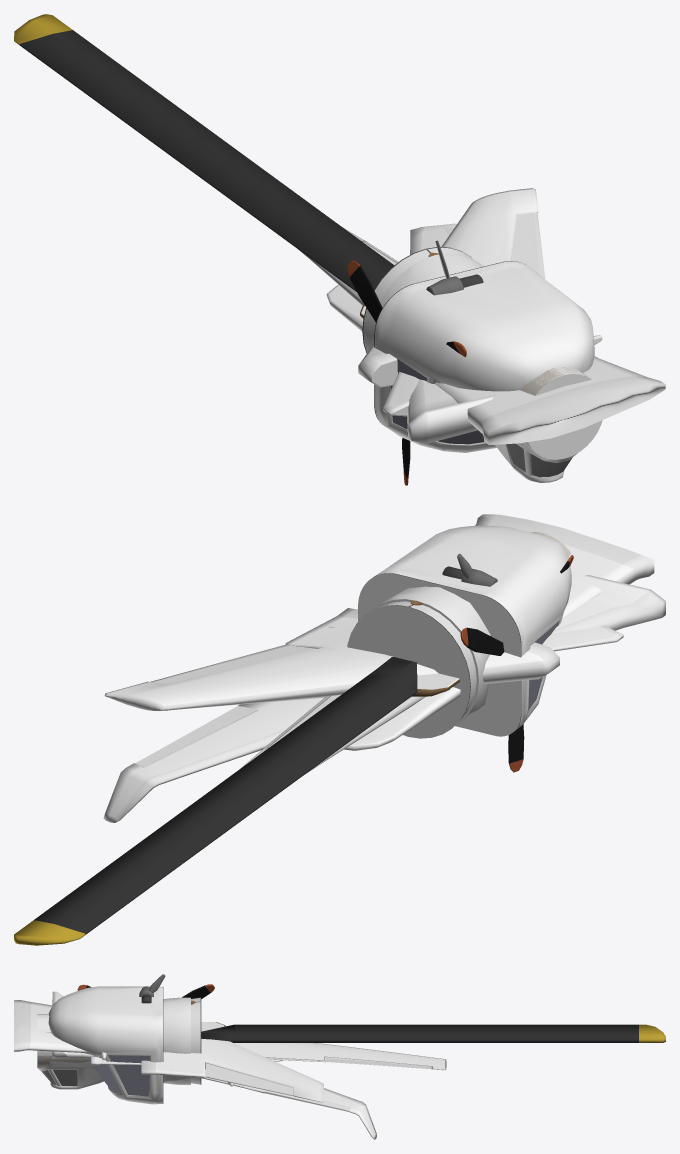
File: Parts_Mirrored_1.glb
The picture shows the model from 3 angles, top to bottom: view 1: azimuth 30°, elevation 25°; view 2: azimuth 150°, elevation 25°; view 3: azimuth 270°, elevation 25°; orthographic projection. The views are drawn at different scales.
Parts seen in each view (by area): view 1: HelicopterCockpit__1_M, HelicopterEngine__0_M, ElectronWing__0_M, DeltaWing02__1_M, ElectronWing__1_M, Cockpit__0_M, BigWing__0_M, BigCockpit__1_M, DeltaWing02__0_M, DeltaWing02__2_M, BigWing__1_M, Connector__0_M (+3 smaller); view 2: HelicopterEngine__0_M, HelicopterCockpit__1_M, DeltaWing02__1_M, Connector__0_M, BigWing__0_M, BigWing__1_M, DeltaWing02__0_M, ElectronWing__1_M, ElectronWing__0_M, BigCockpit__1_M, DeltaWing02__2_M, BigWing__2_M (+4 smaller); view 3: HelicopterEngine__0_M, HelicopterCockpit__1_M, DeltaWing02__1_M, GliderWing__1_M, BigCockpit__1_M, HelicopterCockpit__0_M, Cockpit__0_M, DeltaWing02__2_M, ElectronWing__0_M, BigWing__0_M, ElectronWing__1_M, Connector__0_M (+9 smaller).
Part boxes in pixels (left/top/right/bottom): HelicopterCockpit__1_M: left=375, top=261, right=594, bottom=452; HelicopterEngine__0_M: left=14, top=14, right=394, bottom=291; ElectronWing__0_M: left=327, top=296, right=665, bottom=444; DeltaWing02__1_M: left=364, top=189, right=538, bottom=359; ElectronWing__1_M: left=326, top=285, right=646, bottom=419; Cockpit__0_M: left=495, top=367, right=602, bottom=482; BigWing__0_M: left=421, top=223, right=495, bottom=443; BigCockpit__1_M: left=371, top=253, right=483, bottom=345; DeltaWing02__0_M: left=358, top=188, right=538, bottom=387; DeltaWing02__2_M: left=511, top=212, right=545, bottom=279; BigWing__1_M: left=407, top=227, right=602, bottom=443; Connector__0_M: left=362, top=247, right=472, bottom=353; HelicopterEngine__0_M: left=14, top=657, right=417, bottom=945; HelicopterCockpit__1_M: left=358, top=525, right=571, bottom=736; DeltaWing02__1_M: left=106, top=616, right=543, bottom=709; Connector__0_M: left=347, top=601, right=476, bottom=738; BigWing__0_M: left=105, top=575, right=650, bottom=817; BigWing__1_M: left=103, top=590, right=665, bottom=822; DeltaWing02__0_M: left=104, top=608, right=559, bottom=710; ElectronWing__1_M: left=350, top=544, right=634, bottom=749; ElectronWing__0_M: left=344, top=514, right=654, bottom=750; BigCockpit__1_M: left=371, top=586, right=490, bottom=725; DeltaWing02__2_M: left=150, top=644, right=317, bottom=683; BigWing__2_M: left=135, top=706, right=257, bottom=767; HelicopterEngine__0_M: left=201, top=1024, right=665, bottom=1042; HelicopterCockpit__1_M: left=48, top=986, right=162, bottom=1104; DeltaWing02__1_M: left=156, top=1028, right=321, bottom=1101; GliderWing__1_M: left=234, top=1043, right=444, bottom=1069; BigCockpit__1_M: left=163, top=997, right=190, bottom=1084; HelicopterCockpit__0_M: left=89, top=1055, right=149, bottom=1096; Cockpit__0_M: left=37, top=1014, right=103, bottom=1089; DeltaWing02__2_M: left=205, top=1063, right=293, bottom=1095; ElectronWing__0_M: left=14, top=1000, right=282, bottom=1061; BigWing__0_M: left=52, top=991, right=374, bottom=1137; ElectronWing__1_M: left=29, top=1002, right=278, bottom=1060; Connector__0_M: left=191, top=997, right=201, bottom=1084.
Bounding box in the file's own units: 4.39 × 2.66 × 11.93.
70 materials, 37 textured.
